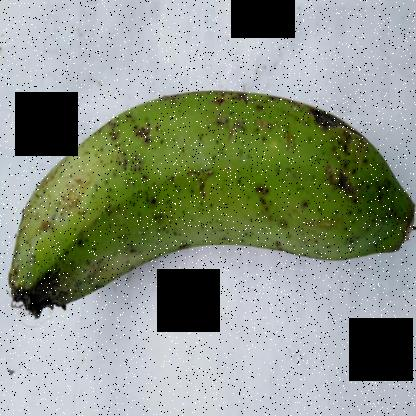unripe: (10, 84, 415, 318)
